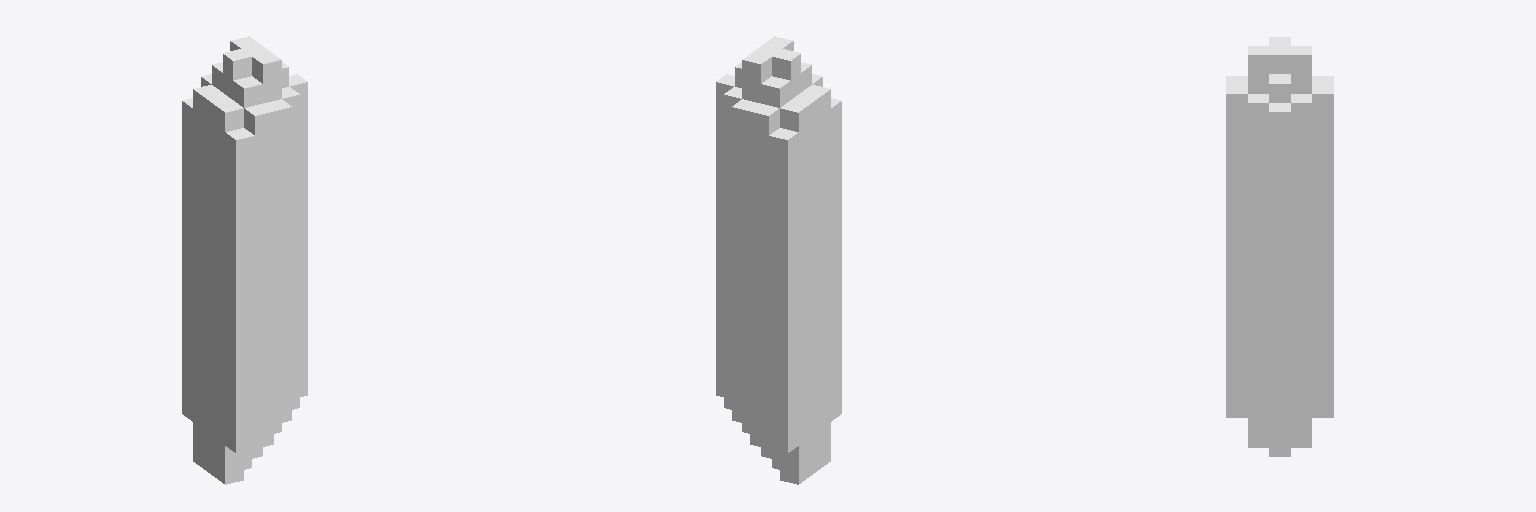
File: LLEG.obj
3 views of the same model, side by side, from view 1: azimuth 30°, elevation 25°; view 2: azimuth 150°, elevation 25°; view 3: azimuth 270°, elevation 25° (orthographic).
Parts seen in each view (by area): view 1: object 1; view 2: object 1; view 3: object 1.
Part boxes in pixels (x1,y1,x2,y2): object 1: (182, 36, 307, 484); object 1: (716, 36, 841, 484); object 1: (1226, 37, 1333, 456).
Size of the model in its own units: 0.5 by 2.1 by 0.5.